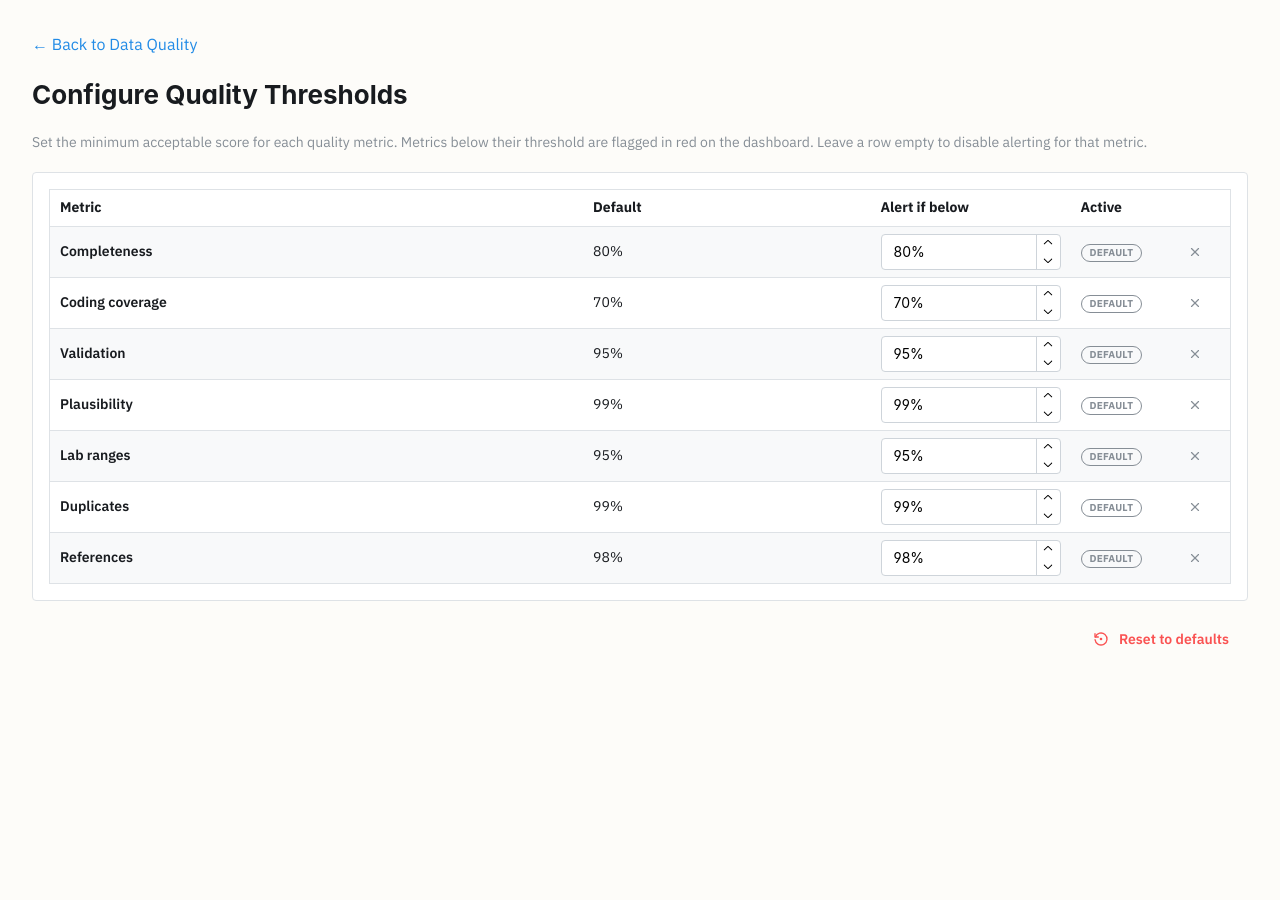
Test case: ThresholdsPage › Reset button opens modal
Click the button "Reset to defaults": (1164, 639) x1=1080 y1=621 x2=1248 y2=657
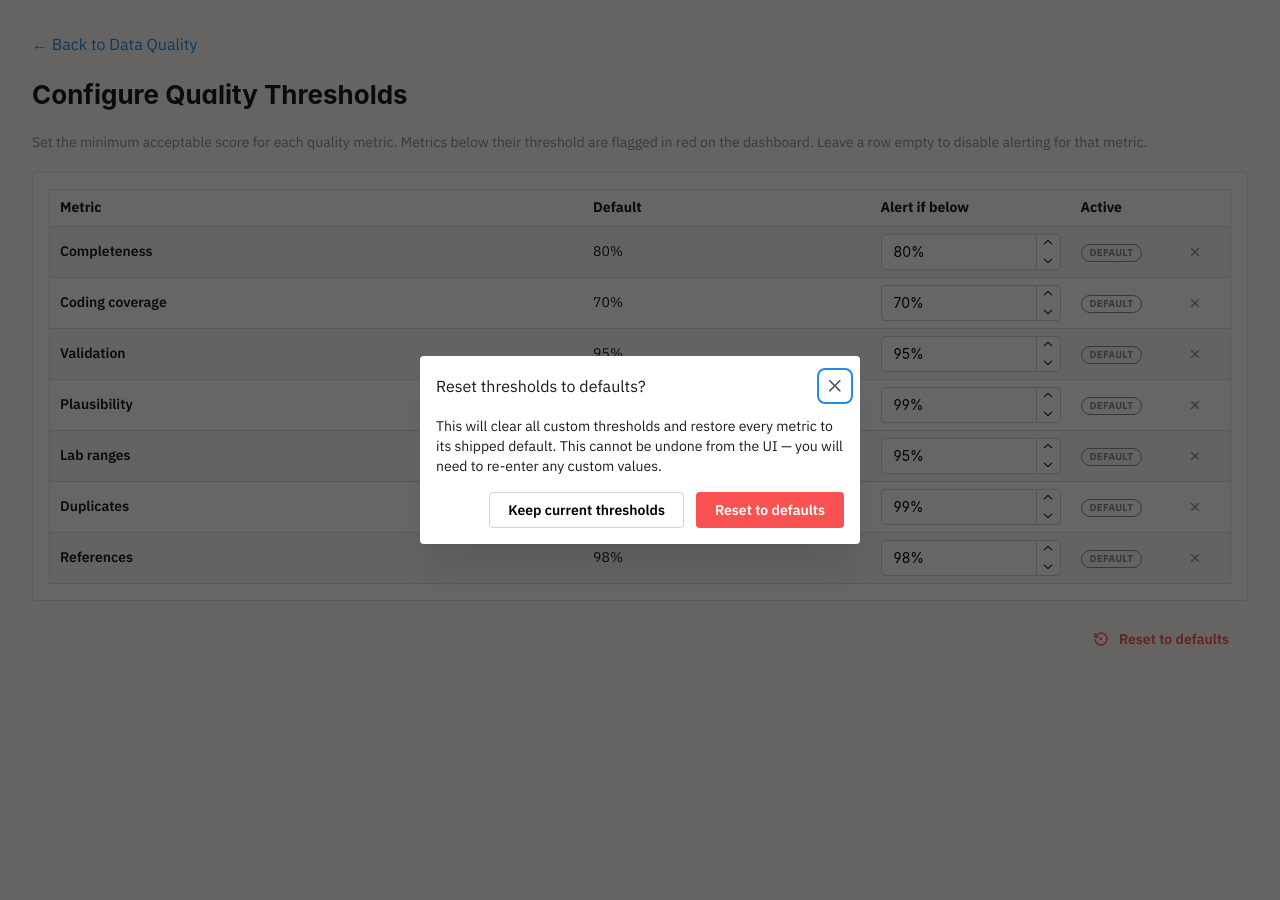
Check: the heading "Reset thresholds to defaults?" is shown, box x1=436 y1=378 x2=646 y2=394
